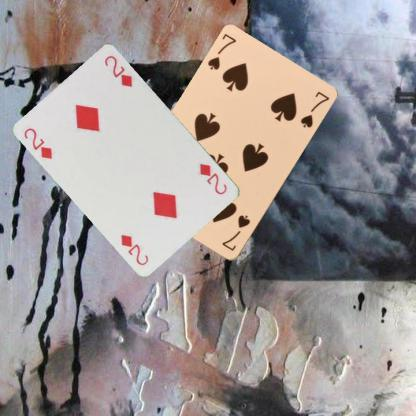2d: (20, 126, 54, 160), (197, 160, 229, 196)
7s: (205, 31, 238, 72), (219, 212, 252, 252)
